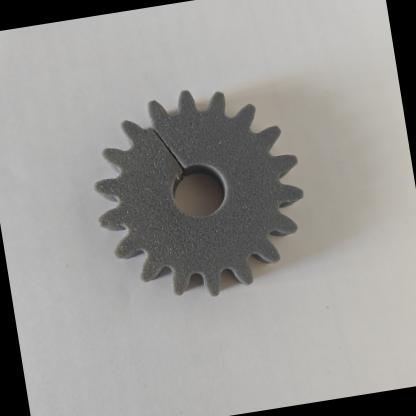defect: (122, 92, 212, 196)
gear: (76, 50, 334, 328)
